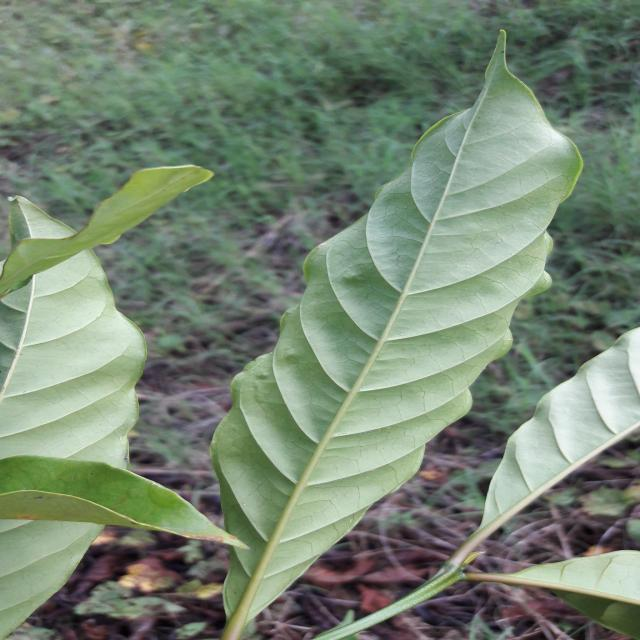Sanas: (210, 29, 586, 640)
